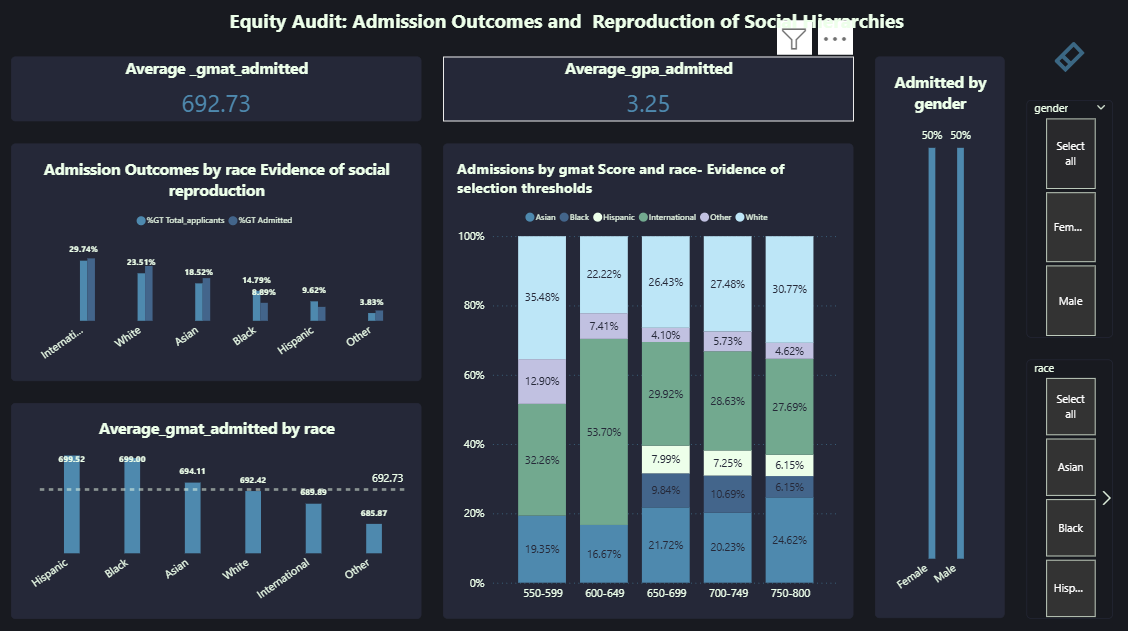

The page's visual inventory and layout, read from the dashboard file:
{"tool":"powerbi","page":{"name":"Equity, Social Reproduction and Policy Implications","canvas":[1280,720],"ordinal":2},"visuals":[{"type":"slicer","fields":{"Values":["df.race"]},"box":[1152,408,96,288],"z":9000},{"type":"slicer","fields":{"Values":["df.gender"]},"box":[1152,120,96,264],"z":9500},{"type":"actionButton","box":[1152,48,96,48],"z":10000},{"type":"columnChart","title":"Admitted  by gender","fields":{"Category":["df.gender"],"Y":["Divide(df.Admitted, ScopedEval(df.Admitted, []))"]},"box":[984,72,144,624],"z":10007},{"type":"hundredPercentStackedColumnChart","title":"Admissions by gmat Score and race- Evidence of selection thresholds","fields":{"Category":["df.gmat_group"],"Y":["df.Admitted"],"Series":["df.race"]},"box":[504,168,456,528],"z":10015},{"type":"clusteredColumnChart","fields":{"Y":["df.Average_gmat_admit"],"Category":["df.race"]},"box":[24,456,456,240],"z":10031},{"type":"clusteredColumnChart","title":"Admission Outcomes by race Evidence of social reproduction","fields":{"Category":["df.race"],"Y":["Divide(df.Total_applicants, ScopedEval(df.Total_applicants, []))","Divide(df.Admitted, ScopedEval(df.Admitted, []))"]},"box":[24,168,456,264],"z":10062},{"type":"card","title":"Average_gpa_admitted","fields":{"Values":["df.Average_gpa"]},"box":[504,72,456,72],"z":10125},{"type":"card","title":"Average _gmat_admitted","fields":{"Values":["df.Average_gmat_admitted"]},"box":[24,72,456,72],"z":10250},{"type":"textbox","box":[16,16,1248,32],"z":10500}]}

Visuals, with their boxes in screenshot pixels (x1, y1, x2, y2), scaled from the page's 1280x720 canvas onto the 1128x631 screenshot:
slicer - df.race: (1015, 358, 1100, 610)
slicer - df.gender: (1015, 105, 1100, 337)
actionButton: (1015, 42, 1100, 84)
"Admitted  by gender" columnChart: (867, 63, 994, 610)
"Admissions by gmat Score and race- Evidence of selection thresholds" hundredPercentStackedColumnChart: (444, 147, 846, 610)
clusteredColumnChart - df.Average_gmat_admit x df.race: (21, 400, 423, 610)
"Admission Outcomes by race Evidence of social reproduction" clusteredColumnChart: (21, 147, 423, 379)
"Average_gpa_admitted" card: (444, 63, 846, 126)
"Average _gmat_admitted" card: (21, 63, 423, 126)
textbox: (14, 14, 1114, 42)
